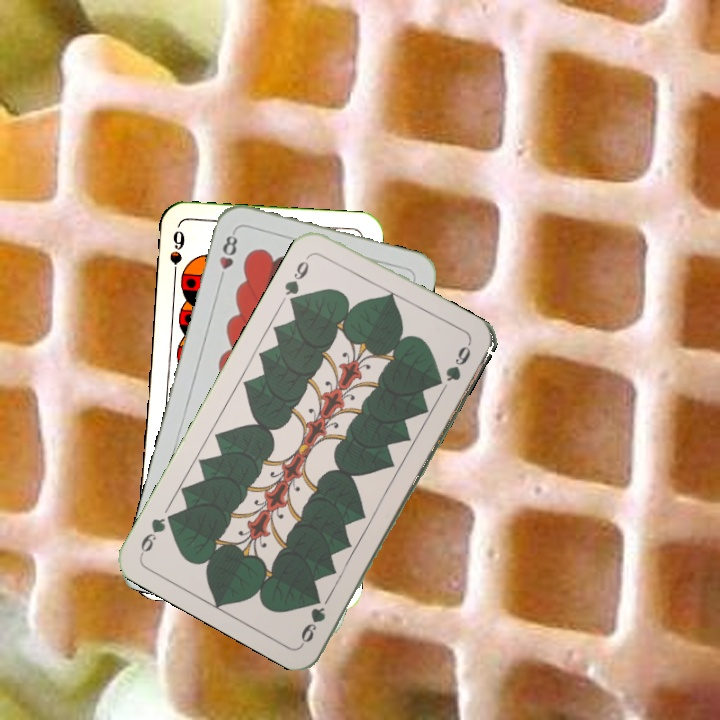G9: (297, 592, 328, 647), (280, 256, 312, 308)
H8: (215, 227, 241, 285)
S9: (165, 226, 188, 284)
